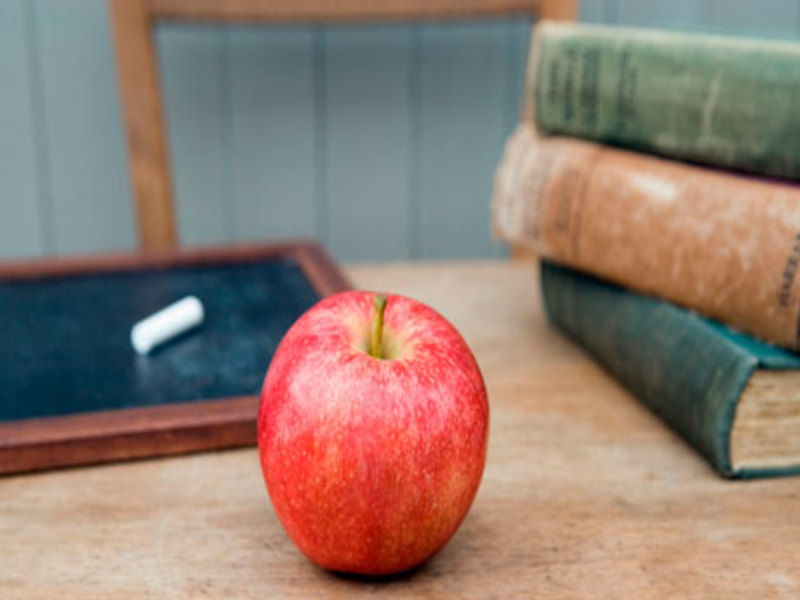apple: (257, 286, 494, 583)
